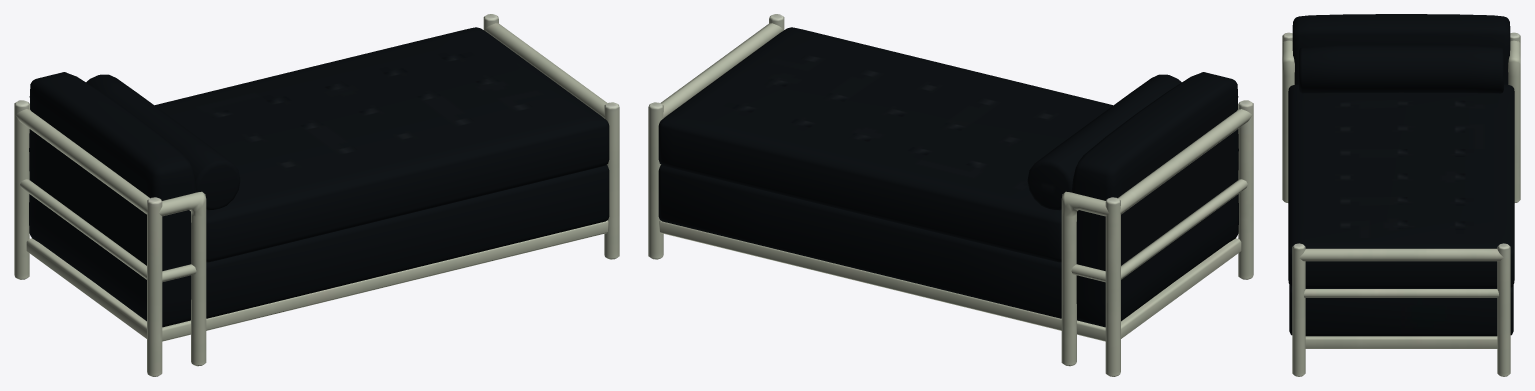
3 renders of one model, left to right at view 1: azimuth 30°, elevation 25°; view 2: azimuth 150°, elevation 25°; view 3: azimuth 270°, elevation 25°, orthographic. The views are drawn at different scales.
Size of the model in its own units: 19.39 by 7.93 by 9.9.
Materials: 2 (2 with a texture image).
